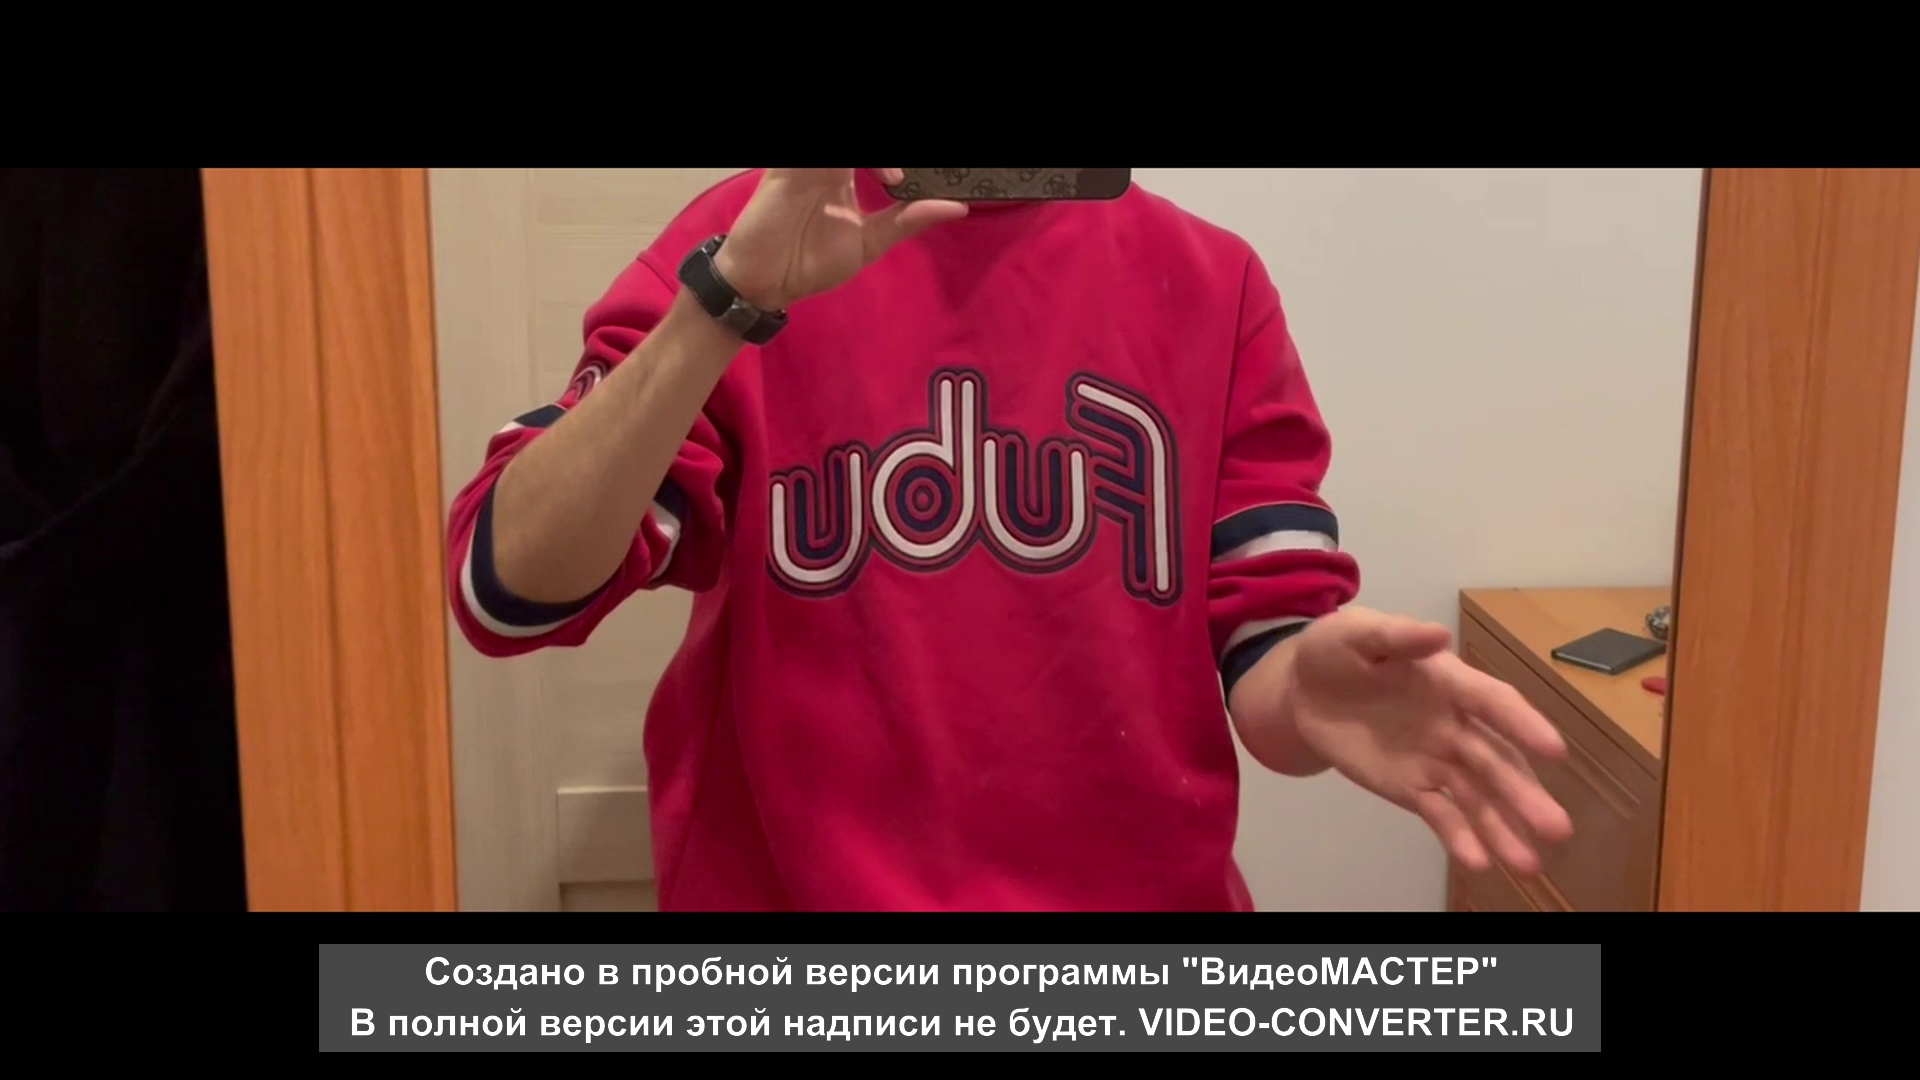Ладонь: (1295, 604, 1572, 877)
